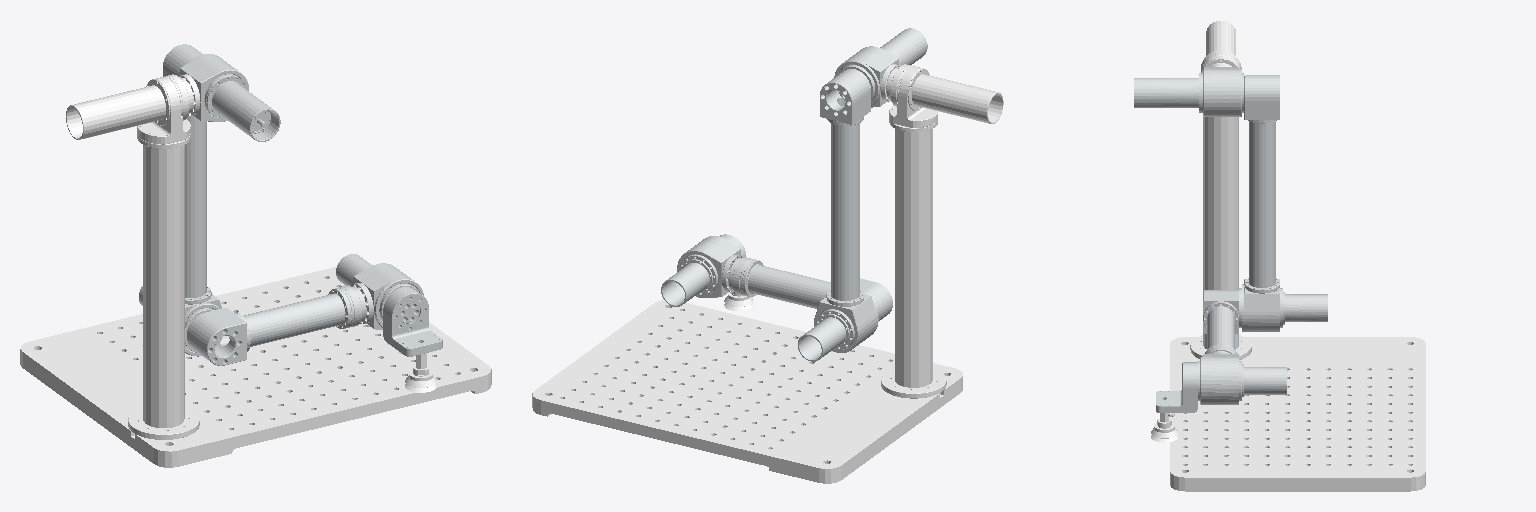
robot.urdf — urdf_std_oo_o:
<?xml version="1.0"?>
<robot name="urdf_std_oo_o">
  <link name="dummy">
   </link>  
  <link
    name="base_link">
    
    <inertial>
      
      <origin
        xyz="0 0 0"
        rpy="0 0 0" />
      
      <mass
        value="9.1664" />
      
      <inertia
        ixx="0"
        ixy="0"
        ixz="0"
        iyy="0"
        iyz="0"
        izz="0" />
    </inertial>
    
    <visual>
      <origin
        xyz="0 0 0"
        rpy="0 0 0" />
      <geometry>
        <mesh
          filename="package://urdf_std_oo_o/meshes/base_link.STL" />
      </geometry>
      
      <material
        name="">
        <color
          rgba="1 1 1 1" />
      </material>
    </visual>
    
    <collision>
      <origin
        xyz="0 0 0"
        rpy="0 0 0" />
      
      <geometry>
        <mesh
          filename="package://urdf_std_oo_o/meshes/base_link.STL" />
      </geometry>
    </collision>
  </link>
  

  <joint name="dummy_joint" type="fixed">
     <parent link="dummy"/>
     <child link="base_link"/>
   </joint>
   
  <link
    name="Empty_Link_1">
    <inertial>
      <origin
        xyz="-4.81294820786626E-06 -0.0306693500483069 -0.00110399438749006"
        rpy="0 0 0" />
      <mass
        value="2.21889895693208" />
      <inertia
        ixx="0.00791439685035679"
        ixy="-9.32987438389712E-07"
        ixz="1.29043346618767E-07"
        iyy="0.00204961173079527"
        iyz="7.49345686644599E-05"
        izz="0.00789632780154254" />
    </inertial>
    <visual>
      <origin
        xyz="0 0 0"
        rpy="0 0 0" />
      <geometry>
        <mesh
          filename="package://urdf_std_oo_o/meshes/Empty_Link_1.STL" />
      </geometry>
      <material
        name="">
        <color
          rgba="0.898039215686275 0.917647058823529 0.929411764705882 1" />
      </material>
    </visual>
    <collision>
      <origin
        xyz="0 0 0"
        rpy="0 0 0" />
      <geometry>
        <mesh
          filename="package://urdf_std_oo_o/meshes/Empty_Link_1.STL" />
      </geometry>
    </collision>
  </link>
  <joint
    name="joint1"
    type="revolute">
    <origin
      xyz="0.1585 0.099987 0.63"
      rpy="0.00013561 1.5708 0" />
    <parent
      link="base_link" />
    <child
      link="Empty_Link_1" />
    <axis
      xyz="0 0 -1" />
    <limit
      lower="-3.14"
      upper="3.14"
      effort="0"
      velocity="0" />
  </joint>
  <link
    name="Empty_Link_2">
    <inertial>
      <origin
        xyz="0.313947467471321 -0.00909590325380014 0.0818102941910778"
        rpy="0 0 0" />
      <mass
        value="2.94008840291025" />
      <inertia
        ixx="0.00390984914962007"
        ixy="0.00292204448494958"
        ixz="-0.000694349816286296"
        iyy="0.104662864914051"
        iyz="2.04671633029545E-05"
        izz="0.103758659402329" />
    </inertial>
    <visual>
      <origin
        xyz="0 0 0"
        rpy="0 0 0" />
      <geometry>
        <mesh
          filename="package://urdf_std_oo_o/meshes/Empty_Link_2.STL" />
      </geometry>
      <material
        name="">
        <color
          rgba="0.898039215686275 0.917647058823529 0.929411764705882 1" />
      </material>
    </visual>
    <collision>
      <origin
        xyz="0 0 0"
        rpy="0 0 0" />
      <geometry>
        <mesh
          filename="package://urdf_std_oo_o/meshes/Empty_Link_2.STL" />
      </geometry>
    </collision>
  </link>
  <joint
    name="joint2"
    type="revolute">
    <origin
      xyz="0 0 0"
      rpy="-1.5708 0.028951 2.3752E-16" />
    <parent
      link="Empty_Link_1" />
    <child
      link="Empty_Link_2" />
    <axis
      xyz="0 0 1" />
    <limit
      lower="-3.14"
      upper="1.57"
      effort="0"
      velocity="0" />
  </joint>
  <link
    name="Empty_Link_3">
    <inertial>
      <origin
        xyz="-5.81733009319407E-07 -0.135583176477509 0.000157654401911234"
        rpy="0 0 0" />
      <mass
        value="1.58672056461053" />
      <inertia
        ixx="0.018924068375713"
        ixy="-1.21135973961457E-07"
        ixz="1.04540256920788E-08"
        iyy="0.00108175352741628"
        iyz="-3.45228353517118E-05"
        izz="0.0189566743806025" />
    </inertial>
    <visual>
      <origin
        xyz="0 0 0"
        rpy="0 0 0" />
      <geometry>
        <mesh
          filename="package://urdf_std_oo_o/meshes/Empty_Link_3.STL" />
      </geometry>
      <material
        name="">
        <color
          rgba="0.898039215686275 0.917647058823529 0.929411764705882 1" />
      </material>
    </visual>
    <collision>
      <origin
        xyz="0 0 0"
        rpy="0 0 0" />
      <geometry>
        <mesh
          filename="package://urdf_std_oo_o/meshes/Empty_Link_3.STL" />
      </geometry>
    </collision>
  </link>
  <joint
    name="joint3"
    type="revolute">
    <origin
      xyz="0.46381 -0.013431 0"
      rpy="-1.5802E-17 3.3128E-16 -0.028951" />
    <parent
      link="Empty_Link_2" />
    <child
      link="Empty_Link_3" />
    <axis
      xyz="0 0 1" />
    <limit
      lower="-3.14"
      upper="3.14"
      effort="0"
      velocity="0" />
  </joint>
  <link
    name="Empty_Link_4">
    <inertial>
      <origin
        xyz="-6.5181263348979E-06 0.00261751789474696 -0.00156020002293067"
        rpy="0 0 0" />
      <mass
        value="1.5682085695731" />
      <inertia
        ixx="0.00280029883944516"
        ixy="2.79829587224642E-07"
        ixz="2.06153732475504E-07"
        iyy="0.0017847071882891"
        iyz="-6.15381930601231E-06"
        izz="0.00278301182536792" />
    </inertial>
    <visual>
      <origin
        xyz="0 0 0"
        rpy="0 0 0" />
      <geometry>
        <mesh
          filename="package://urdf_std_oo_o/meshes/Empty_Link_4.STL" />
      </geometry>
      <material
        name="">
        <color
          rgba="0.898039215686275 0.917647058823529 0.929411764705882 1" />
      </material>
    </visual>
    <collision>
      <origin
        xyz="0 0 0"
        rpy="0 0 0" />
      <geometry>
        <mesh
          filename="package://urdf_std_oo_o/meshes/Empty_Link_4.STL" />
      </geometry>
    </collision>
  </link>
  <joint
    name="joint4"
    type="revolute">
    <origin
      xyz="0 -0.336 0"
      rpy="1.5708 -6.2983E-17 -2.2897E-16" />
    <parent
      link="Empty_Link_3" />
    <child
      link="Empty_Link_4" />
    <axis
      xyz="0 0 -1" />
    <limit
      lower="-1.57"
      upper="1.57"
      effort="0"
      velocity="0" />
  </joint>
  <link
    name="Empty_Link_5">
    <inertial>
      <origin
        xyz="-5.55111512312578E-17 0.0239093468615002 -0.038431333931202"
        rpy="0 0 0" />
      <mass
        value="0.492060858190606" />
      <inertia
        ixx="0.000537520499053001"
        ixy="-1.39822925847117E-18"
        ixz="-7.34958622772105E-19"
        iyy="0.000446234704040959"
        iyz="-0.000119466609547539"
        izz="0.000552918426959397" />
    </inertial>
    <visual>
      <origin
        xyz="0 0 0"
        rpy="0 0 0" />
      <geometry>
        <mesh
          filename="package://urdf_std_oo_o/meshes/Empty_Link_5.STL" />
      </geometry>
      <material
        name="">
        <color
          rgba="0.898039215686275 0.917647058823529 0.929411764705882 1" />
      </material>
    </visual>
    <collision>
      <origin
        xyz="0 0 0"
        rpy="0 0 0" />
      <geometry>
        <mesh
          filename="package://urdf_std_oo_o/meshes/Empty_Link_5.STL" />
      </geometry>
    </collision>
  </link>
  <joint
    name="joint5"
    type="revolute">
    <origin
      xyz="0 -0.11032 0"
      rpy="1.5708 1.5708 0" />
    <parent
      link="Empty_Link_4" />
    <child
      link="Empty_Link_5" />
    <axis
      xyz="0 0 -1" />
    <limit
      lower="-3.14"
      upper="3.14"
      effort="0"
      velocity="0" />
  </joint>
  <link
    name="Empty_Link_6">
    <inertial>
      <origin
        xyz="5.69062715067292E-05 0.000107088013798936 0.0280684607787753"
        rpy="0 0 0" />
      <mass
        value="0.0383168420364039" />
      <inertia
        ixx="1.55919427889244E-05"
        ixy="-1.36478949559291E-08"
        ixz="-4.89111210621542E-08"
        iyy="1.55735122872982E-05"
        iyz="-9.20428509567014E-08"
        izz="7.75323865942032E-06" />
    </inertial>
    <visual>
      <origin
        xyz="0 0 0"
        rpy="0 0 0" />
      <geometry>
        <mesh
          filename="package://urdf_std_oo_o/meshes/Empty_Link_6.STL" />
      </geometry>
      <material
        name="">
        <color
          rgba="1 1 1 1" />
      </material>
    </visual>
    <collision>
      <origin
        xyz="0 0 0"
        rpy="0 0 0" />
      <geometry>
        <mesh
          filename="package://urdf_std_oo_o/meshes/Empty_Link_6.STL" />
      </geometry>
    </collision>
  </link>
  <joint
    name="joint6"
    type="revolute">
    <origin
      xyz="0 0.1205 0"
      rpy="-1.5708 -1.0879E-14 3.1416" />
    <parent
      link="Empty_Link_5" />
    <child
      link="Empty_Link_6" />
    <axis
      xyz="0 0 1" />
    <limit
      lower="-1.57"
      upper="1.57"
      effort="0"
      velocity="0" />
  </joint>
</robot>

--- Facts derived from the render (not from the file) ---
3 views of the same robot in one strip: view 1: azimuth 30°, elevation 25°; view 2: azimuth 150°, elevation 25°; view 3: azimuth 270°, elevation 25° (orthographic).
Model urdf_std_oo_o with 8 links and 7 joints (6 revolute, 1 fixed), rooted at dummy, posed all joints at 0.
Visible links, largest first — view 1: base_link, Empty_Link_3, Empty_Link_2, Empty_Link_1, Empty_Link_4, Empty_Link_5, Empty_Link_6; view 2: base_link, Empty_Link_2, Empty_Link_3, Empty_Link_4, Empty_Link_1; view 3: base_link, Empty_Link_2, Empty_Link_1, Empty_Link_4, Empty_Link_3, Empty_Link_5, Empty_Link_6.
Boxes of the visible links, <box> form: base_link: <box>20,74,491,467</box>; Empty_Link_3: <box>187,283,373,365</box>; Empty_Link_2: <box>139,44,221,356</box>; Empty_Link_1: <box>180,54,280,141</box>; Empty_Link_4: <box>336,254,423,329</box>; Empty_Link_5: <box>383,287,442,356</box>; Empty_Link_6: <box>405,353,436,392</box>; base_link: <box>532,64,1003,483</box>; Empty_Link_2: <box>798,69,878,361</box>; Empty_Link_3: <box>722,255,892,320</box>; Empty_Link_4: <box>661,236,740,306</box>; Empty_Link_1: <box>834,28,927,107</box>; base_link: <box>1170,21,1425,491</box>; Empty_Link_2: <box>1239,75,1327,331</box>; Empty_Link_1: <box>1134,67,1243,116</box>; Empty_Link_4: <box>1198,354,1286,404</box>; Empty_Link_3: <box>1203,290,1238,353</box>; Empty_Link_5: <box>1156,362,1197,412</box>; Empty_Link_6: <box>1151,413,1177,442</box>.
Bounding box of the posed robot: 0.763 × 0.57 × 0.6775 m (x, y, z).
Meshes: 7 distinct files referenced, 7 mesh visuals loaded (7 binary STL).